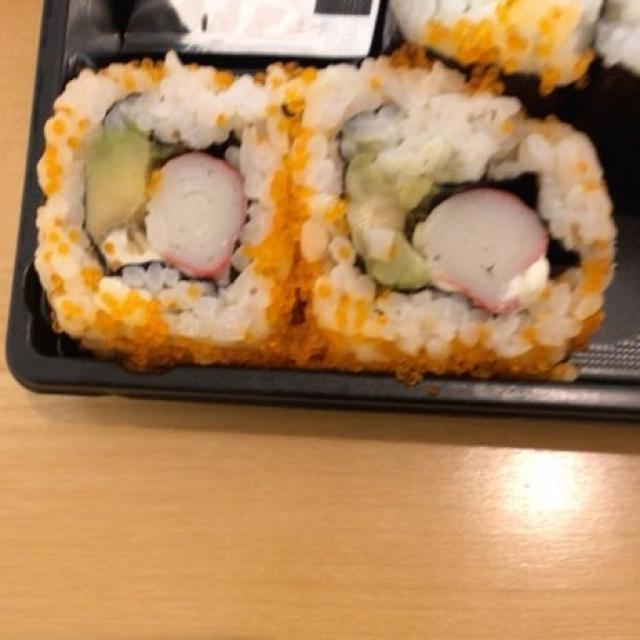sushi: (45, 50, 614, 377)
